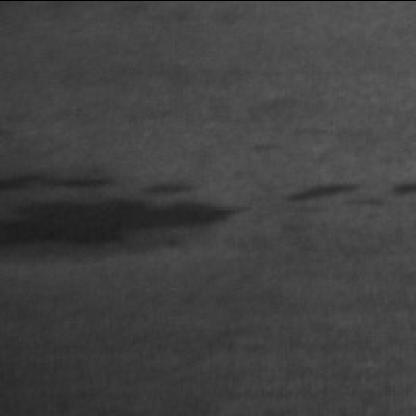inclusion: (0, 168, 248, 254), (276, 166, 410, 214)
